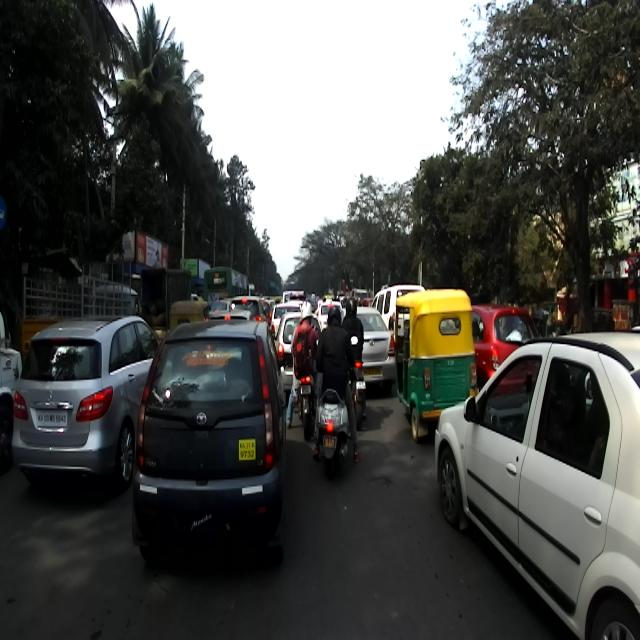auto ahead at: (386, 292, 483, 438)
car ahead at: (433, 329, 640, 639), (134, 328, 288, 563), (15, 310, 141, 507)
motorcycle ahead at: (313, 386, 355, 485)
